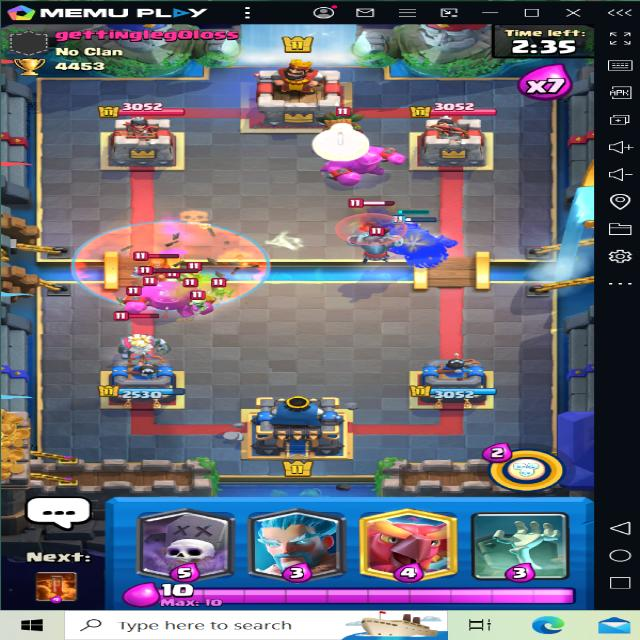Dartgoblin: (310, 108, 367, 138)
Egolem: (311, 138, 412, 183), (126, 276, 216, 318)
Megaminion: (336, 226, 414, 262)
Musketeer: (338, 202, 404, 234)
Royalghost: (104, 321, 173, 363)
Skeleton: (187, 291, 220, 312), (208, 278, 240, 296), (114, 285, 142, 304), (183, 261, 201, 281), (128, 267, 154, 280)
Valk: (132, 250, 186, 281)
